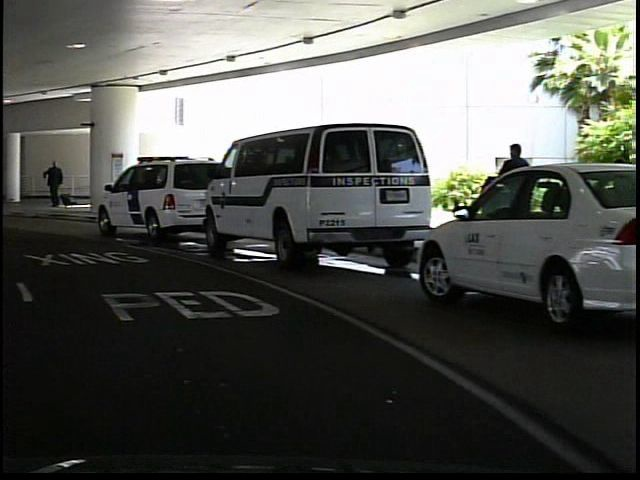person: (489, 138, 532, 259), (39, 156, 66, 215)
